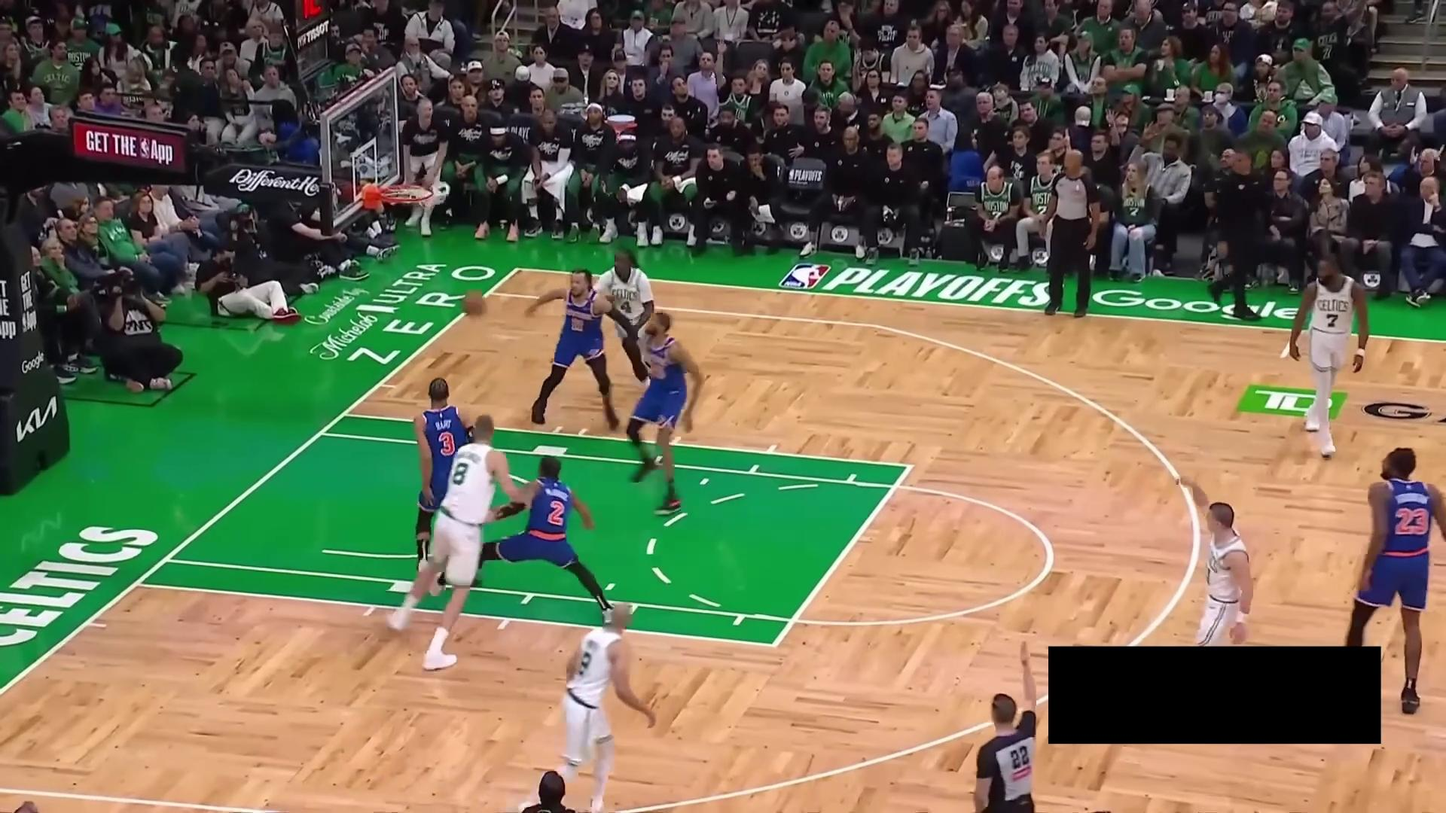ball: (462, 292, 486, 316)
number: (1393, 503, 1432, 540), (548, 500, 566, 529), (437, 430, 457, 454), (577, 648, 592, 678), (453, 460, 470, 486), (569, 316, 586, 333), (1326, 311, 1339, 328), (620, 299, 633, 314)
player: (415, 454, 629, 629), (385, 415, 528, 671), (518, 602, 656, 813), (1345, 446, 1446, 714), (524, 268, 638, 431), (1289, 251, 1370, 457), (625, 311, 706, 516), (412, 377, 475, 596), (1174, 476, 1255, 646), (591, 247, 655, 387)
referee: (1035, 146, 1106, 321), (970, 638, 1038, 813)
rim: (381, 181, 433, 203)
